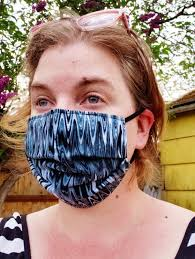cloth_mask: (23, 109, 135, 208)
